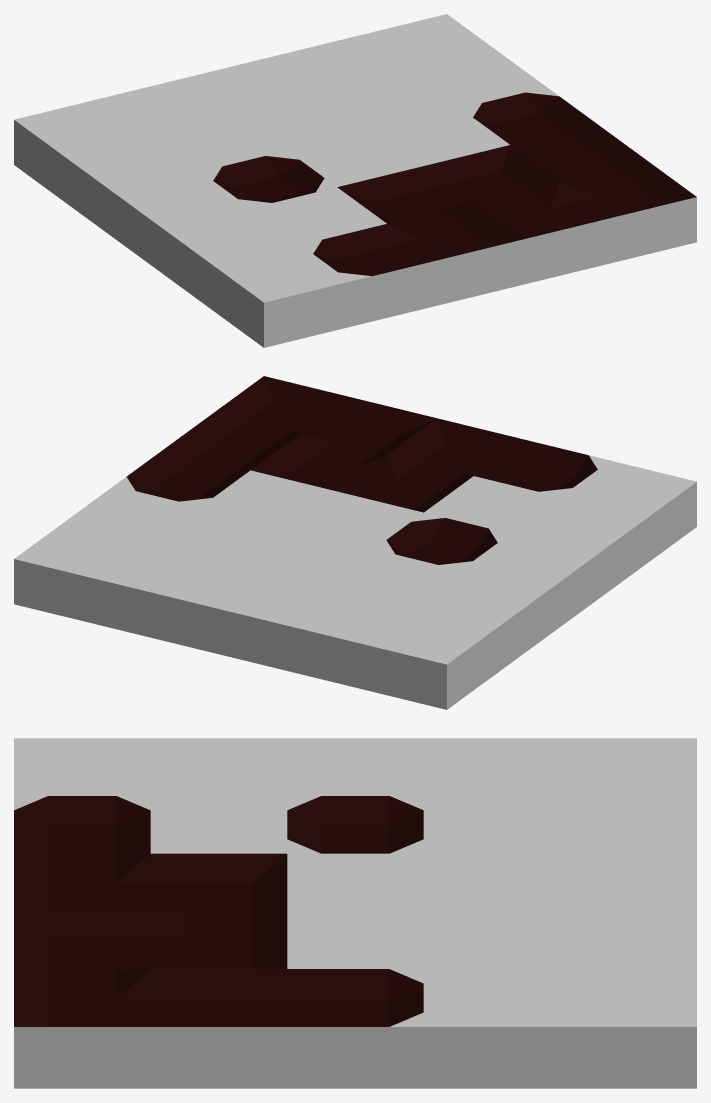
3 views of the same model, one above another, from view 1: azimuth 30°, elevation 25°; view 2: azimuth 150°, elevation 25°; view 3: azimuth 270°, elevation 25° (orthographic). The views are drawn at different scales.
Parts seen in each view (by area): view 1: foil.block.0.0_block.11204, foil.corner.4.0_corner.3310, foil.corner.2.0_corner.3306, foil.ending.1.0_ending.1319, foil.corner.3.0_corner.3308, foil.block.0.2_block.11206, foil.block.0.3_block.11207, foil.block.0.4_block.11208, foil.block.0.1_block.11205, foil.corner.3.1_corner.3309, foil.ending.4.2_ending.1320, foil.corner.2.1_corner.3307 (+13 smaller); view 2: foil.block.0.4_block.11208, foil.block.3.4_block.11218, foil.block.1.4_block.11212, foil.block.4.4_block.11220, foil.block.2.4_block.11215, foil.block.0.0_block.11204, foil.block.0.1_block.11205, foil.block.0.2_block.11206, foil.block.0.3_block.11207, foil.corner.4.0_corner.3310, foil.corner.2.0_corner.3306, foil.corner.3.0_corner.3308 (+13 smaller); view 3: foil.through.4.1_through.650, foil.block.4.3_block.11219, foil.ending.4.2_ending.1320, foil.block.4.4_block.11220, foil.corner.4.0_corner.3310, foil.corner.2.1_corner.3307, foil.corner.3.0_corner.3308, foil.ending.1.0_ending.1319, foil.block.2.3_block.11214, foil.block.2.2_block.11213, foil.block.2.4_block.11215, foil.block.0.1_block.11205 (+13 smaller).
Part boxes in pixels (x1,y1,x2,y2): foil.block.0.0_block.11204: (214,245,350,347); foil.corner.4.0_corner.3310: (561,160,696,263); foil.corner.2.0_corner.3306: (387,203,523,305); foil.ending.1.0_ending.1319: (301,224,437,326); foil.corner.3.0_corner.3308: (474,181,610,284); foil.block.0.2_block.11206: (114,172,249,274); foil.block.0.3_block.11207: (64,135,200,237); foil.block.0.4_block.11208: (14,98,149,201); foil.block.0.1_block.11205: (164,208,299,310); foil.corner.3.1_corner.3309: (424,145,559,208); foil.ending.4.2_ending.1320: (461,87,596,150); foil.corner.2.1_corner.3307: (337,166,473,229); foil.block.0.4_block.11208: (360,607,496,709); foil.block.3.4_block.11218: (100,543,236,646); foil.block.1.4_block.11212: (273,586,409,688); foil.block.4.4_block.11220: (14,522,150,625); foil.block.2.4_block.11215: (187,564,323,667); foil.block.0.0_block.11204: (561,460,696,563); foil.block.0.1_block.11205: (510,497,646,599); foil.block.0.2_block.11206: (461,534,596,636); foil.block.0.3_block.11207: (411,570,546,672); foil.corner.4.0_corner.3310: (214,376,350,439); foil.corner.2.0_corner.3306: (387,418,523,481); foil.corner.3.0_corner.3308: (301,397,436,460); foil.through.4.1_through.650: (150,969,287,1088); foil.block.4.3_block.11219: (423,969,560,1088); foil.ending.4.2_ending.1320: (287,969,423,1088); foil.block.4.4_block.11220: (560,969,696,1088); foil.corner.4.0_corner.3310: (14,969,150,1088); foil.corner.2.1_corner.3307: (150,853,287,926); foil.corner.3.0_corner.3308: (14,911,150,984); foil.ending.1.0_ending.1319: (14,796,150,868); foil.block.2.3_block.11214: (423,853,560,911); foil.block.2.2_block.11213: (287,853,423,911); foil.block.2.4_block.11215: (560,853,696,911); foil.block.0.1_block.11205: (150,738,287,795).
Bounding box in the file's own units: 10 × 1 × 10.
